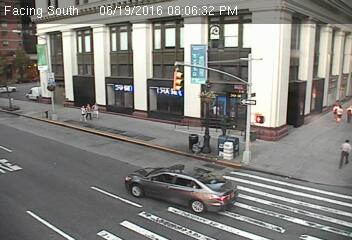neg: (152, 166, 185, 210), (211, 80, 237, 115), (125, 107, 147, 137), (177, 98, 196, 124), (148, 38, 166, 61), (56, 142, 74, 165), (21, 42, 38, 65)
pos: (327, 95, 350, 127), (333, 135, 351, 166), (88, 95, 105, 117), (83, 102, 95, 117), (77, 105, 88, 120)
